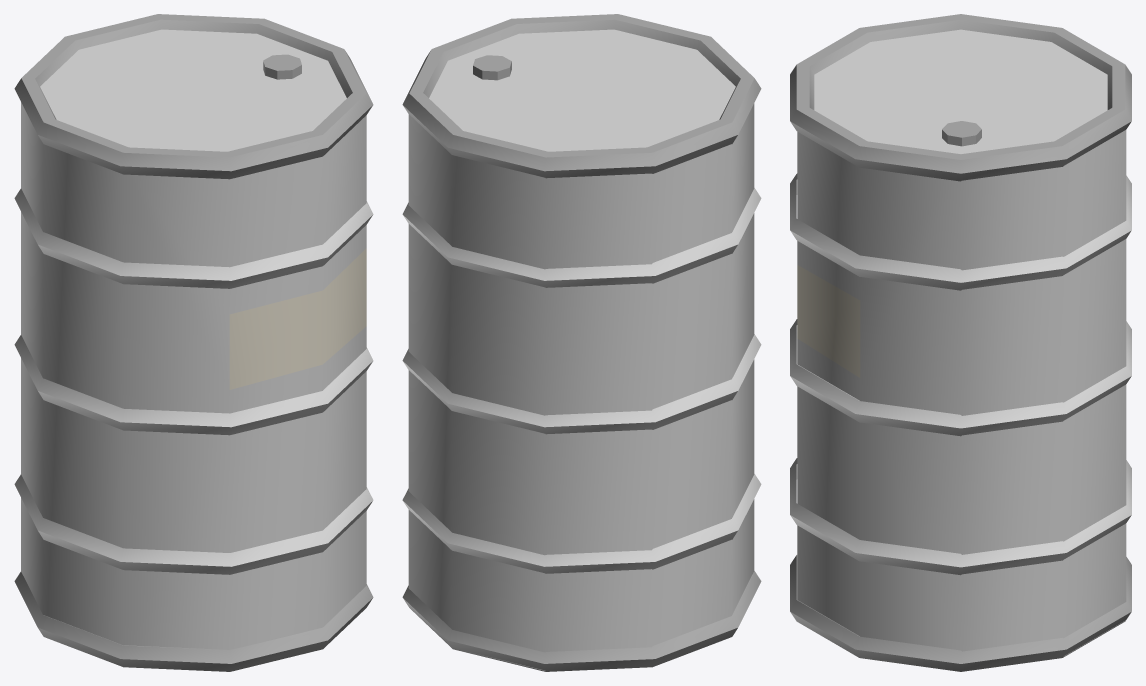
The model's file is props5.fbx.
The picture shows the model from 3 angles, left to right: view 1: azimuth 30°, elevation 25°; view 2: azimuth 150°, elevation 25°; view 3: azimuth 270°, elevation 25°; orthographic projection.
Visible parts, largest first — view 1: Torus_5; view 2: Torus_5; view 3: Torus_5.
Boxes of the visible parts, x1,y1,x2,y2 form: Torus_5: (14, 14, 373, 671); Torus_5: (402, 14, 761, 671); Torus_5: (790, 14, 1131, 671).
Bounding box in the file's own units: 84.26 × 133 × 80.14.
